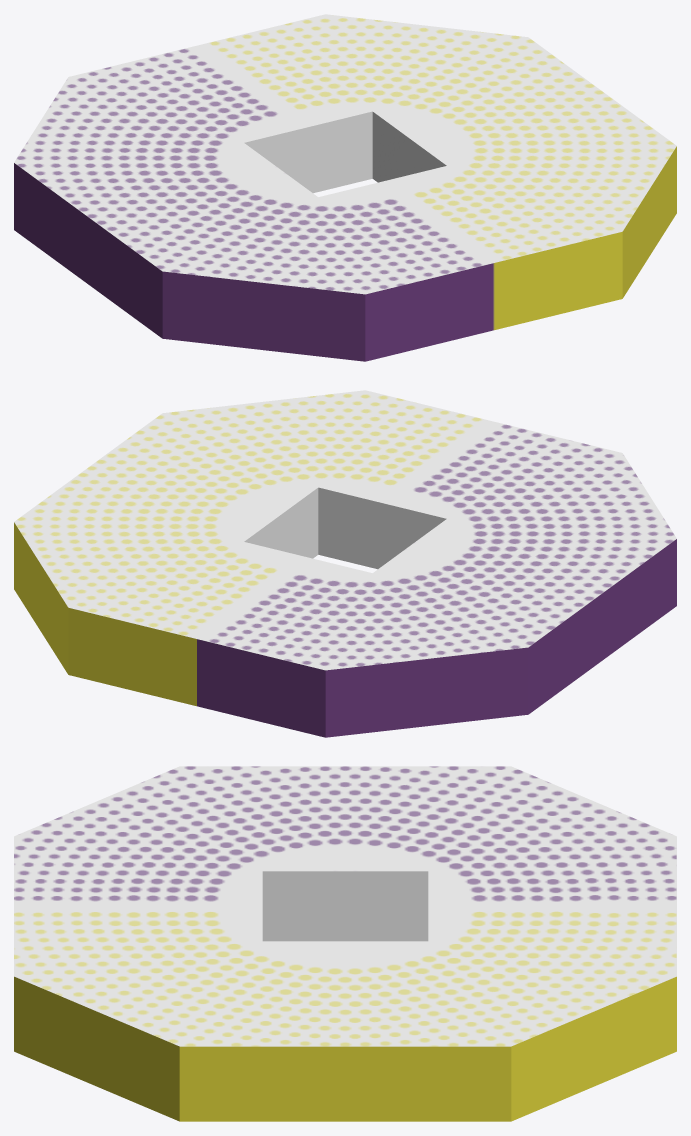
File: hexcenter.fbx
3 views of the same model, one above another, from view 1: azimuth 30°, elevation 25°; view 2: azimuth 150°, elevation 25°; view 3: azimuth 270°, elevation 25° (orthographic). The views are drawn at different scales.
Visible parts, largest first — view 1: hexcenter; view 2: hexcenter; view 3: hexcenter.
Part boxes in pixels (x1,y1,x2,y2): hexcenter: (14,14,676,361); hexcenter: (14,390,676,737); hexcenter: (14,766,676,1121).
Bounding box in the file's own units: 4 × 0.5 × 4.
